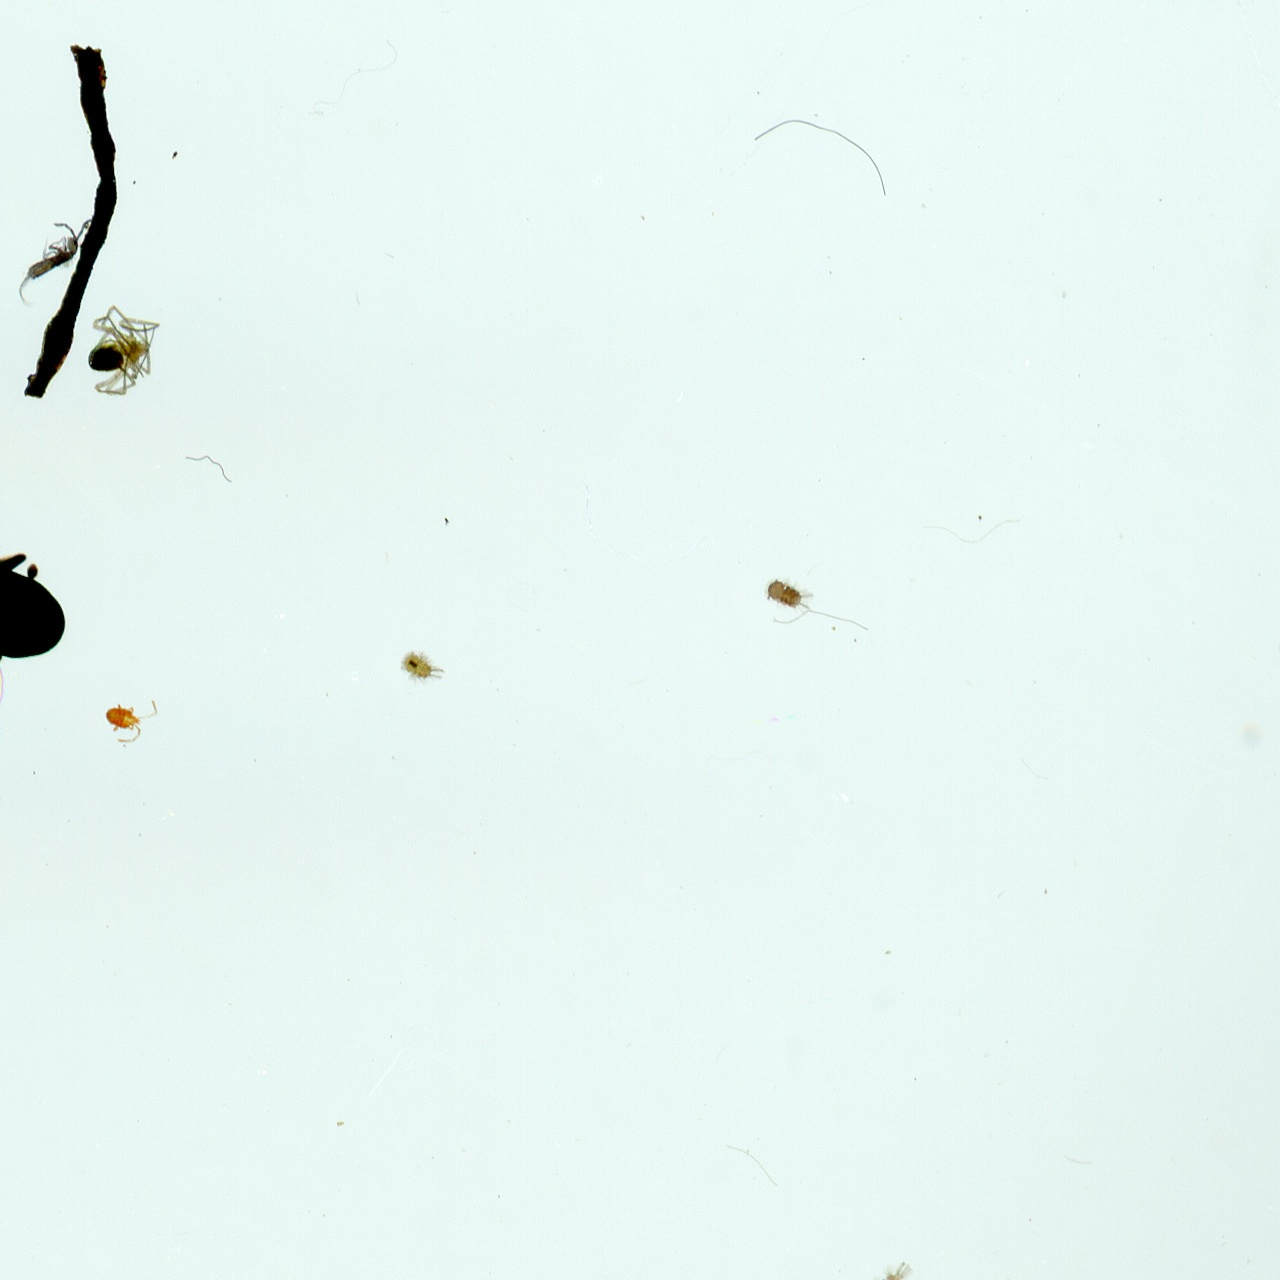arthropod: (0, 483, 66, 676), (16, 216, 93, 306), (86, 305, 159, 394), (103, 697, 161, 747), (761, 573, 815, 610), (399, 648, 445, 685), (870, 1261, 913, 1280)
